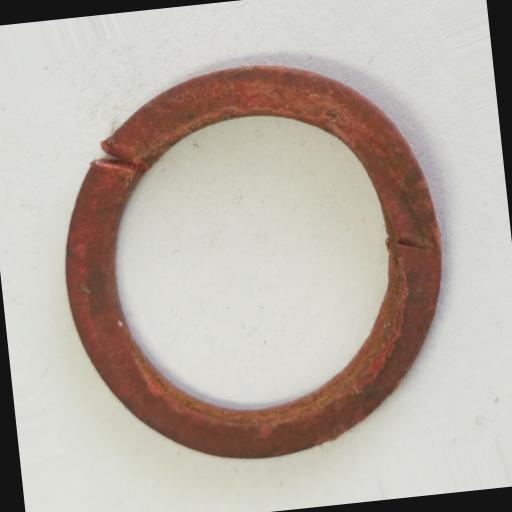defect: (90, 136, 142, 179), (386, 233, 432, 258)
